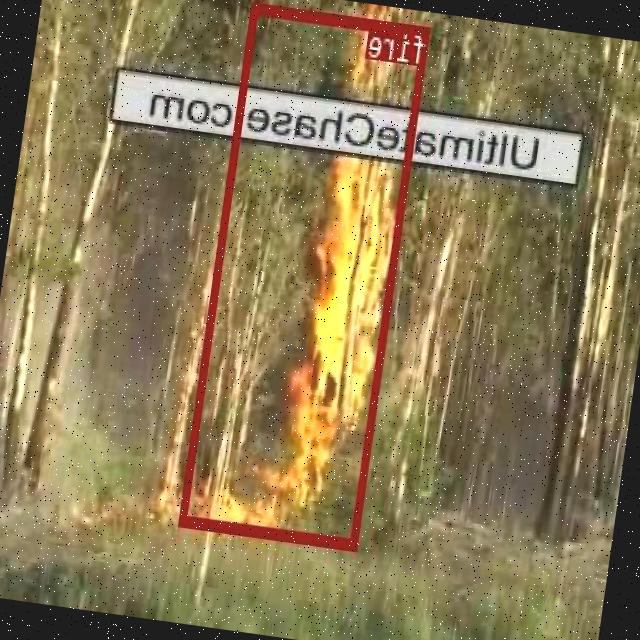fire: (181, 1, 432, 548)
